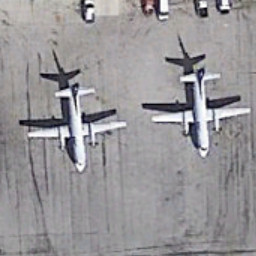Airplane: (21, 67, 132, 183), (142, 67, 255, 163)
